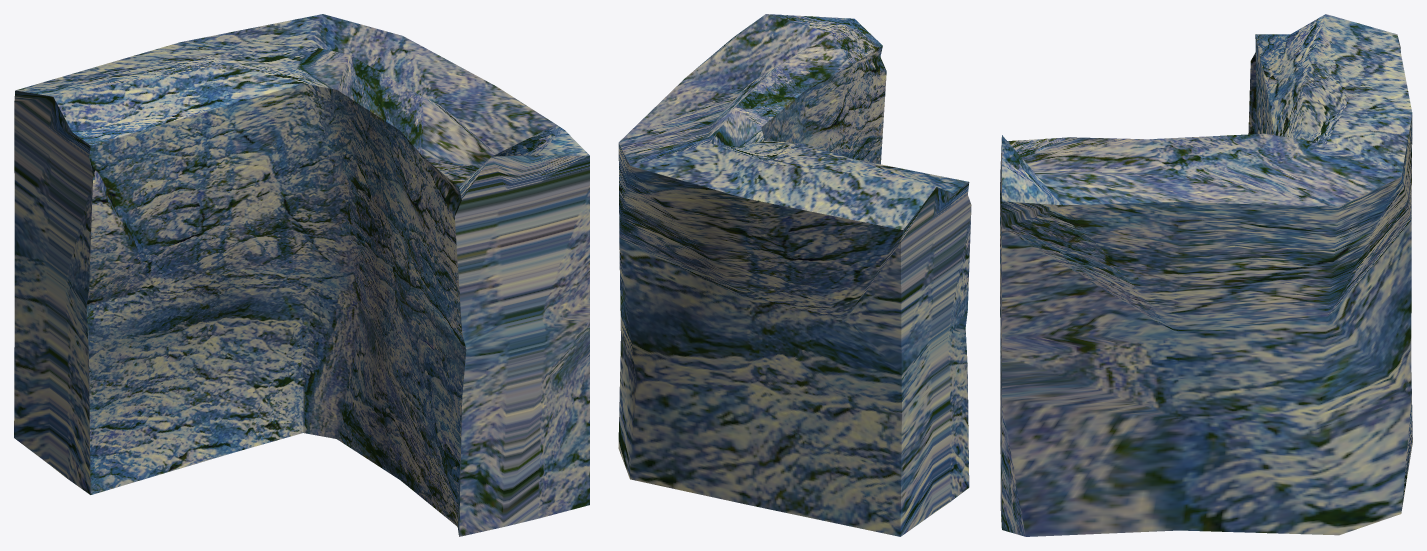
Rendered from rockWall_right_concave.fbx.
3 views of the same model, side by side, from view 1: azimuth 30°, elevation 25°; view 2: azimuth 150°, elevation 25°; view 3: azimuth 270°, elevation 25° (orthographic). The views are drawn at different scales.
Parts seen in each view (by area): view 1: pPlane9; view 2: pPlane9; view 3: pPlane9.
Boxes of the visible parts, x1=… form: pPlane9: x1=14, y1=14, x2=589, y2=536; pPlane9: x1=618, y1=14, x2=971, y2=536; pPlane9: x1=1000, y1=14, x2=1412, y2=536.
Size of the model in its own units: 12.28 by 12.53 by 12.03.
